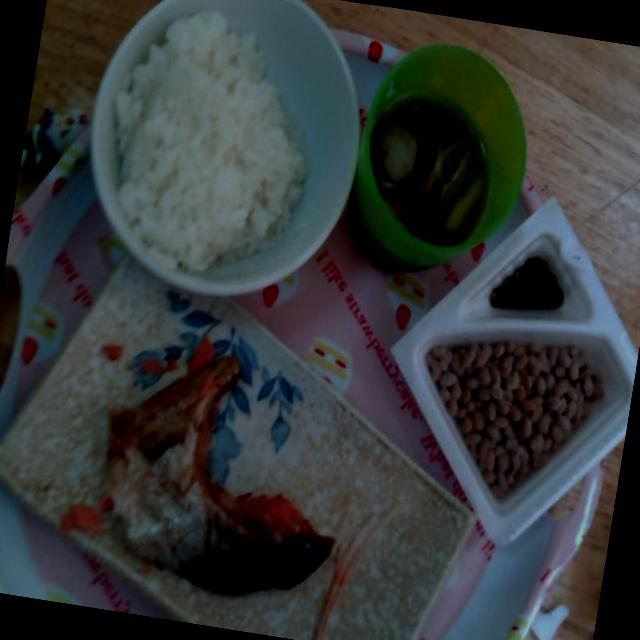Rice: (74, 0, 340, 284)
